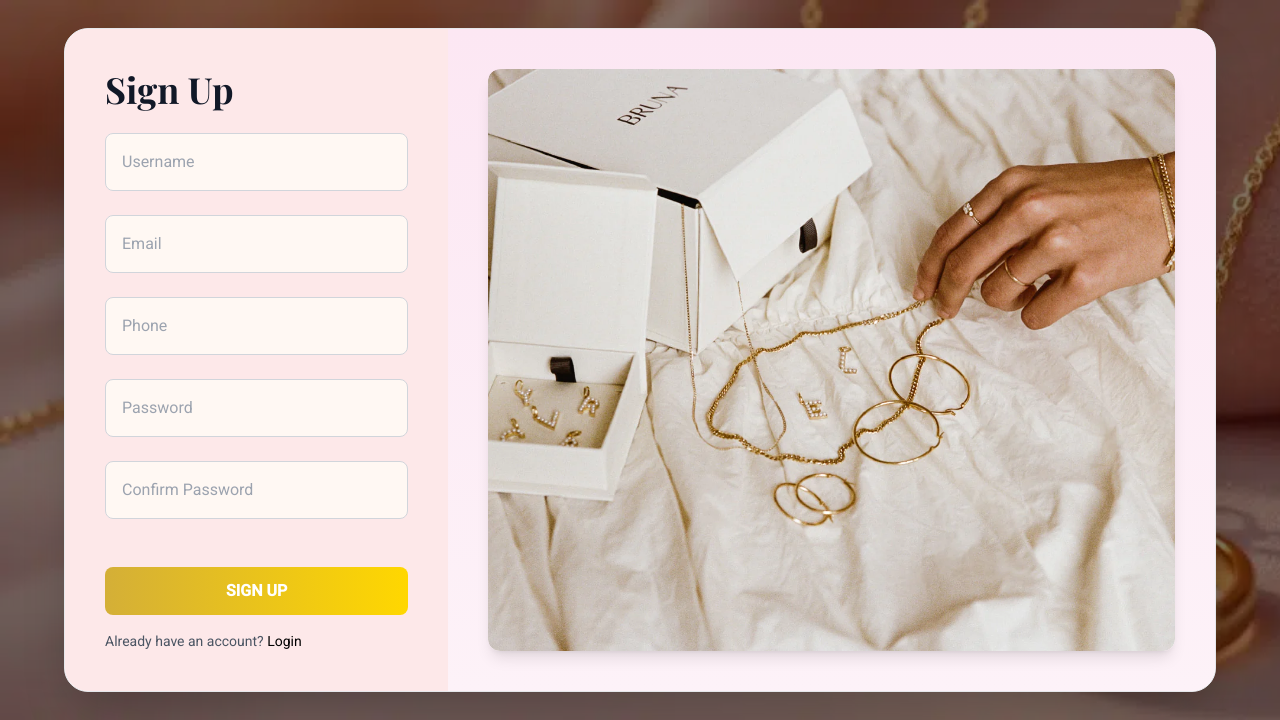
Test: Register Component › displays validation errors when form is submitted with empty fields
The width and height of the screenshot is (1280, 720).
Click the submit button
Click the button "Sign Up": (257, 591) [105,567,408,615]
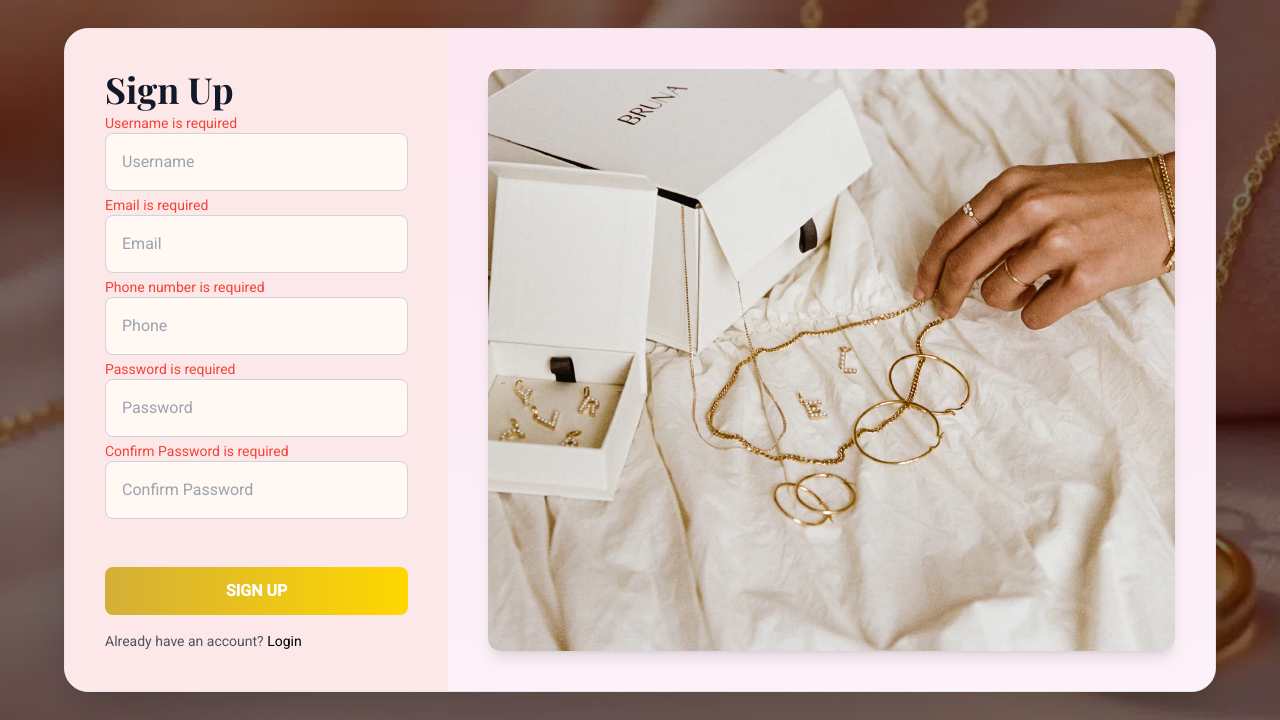
Check: the text "Username is required" is shown, box [105,113,237,134]
Check: the text "Email is required" is shown, box [105,195,208,216]
Check: the text "Phone number is required" is shown, box [105,277,264,298]
